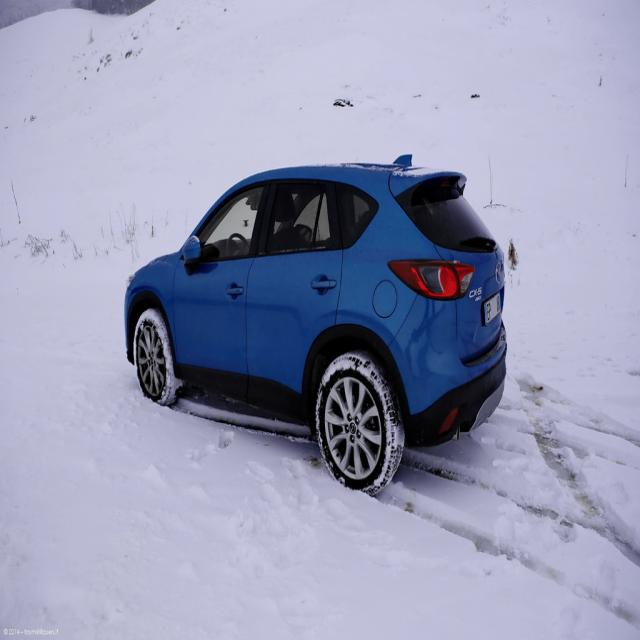car: (112, 141, 520, 497)
